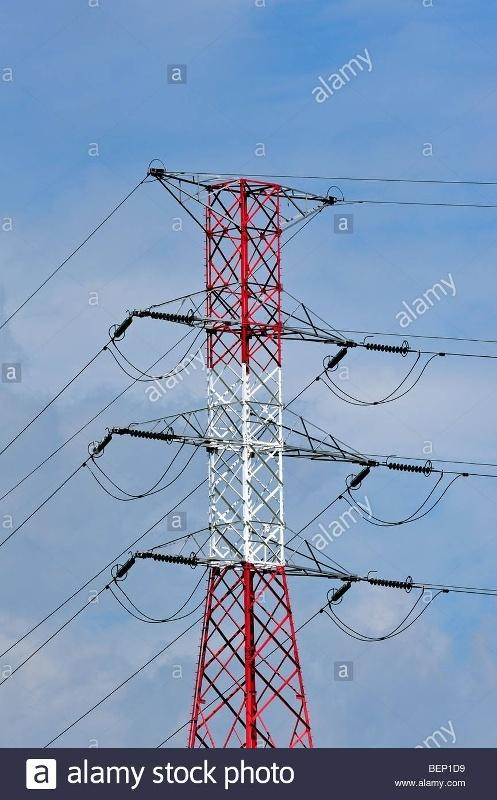power_tower: (102, 154, 385, 748)
